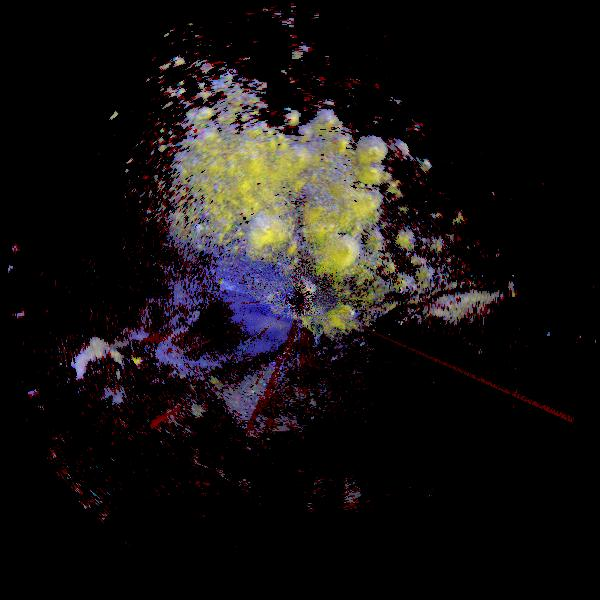roost: (66, 338, 138, 410), (246, 209, 291, 254)
